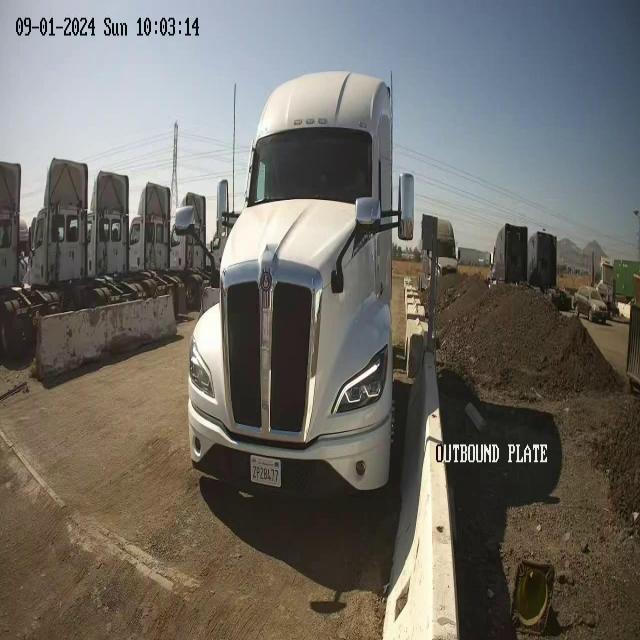TRUCK_OUT: (187, 68, 414, 498)
